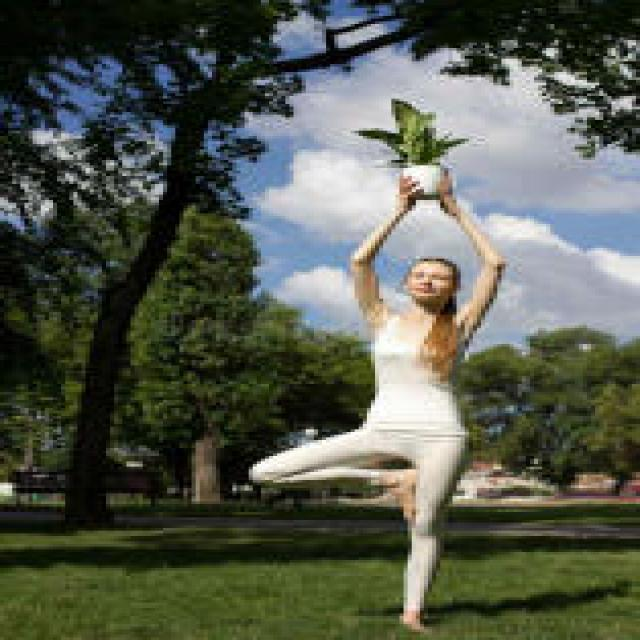yoga-pose tree: (251, 185, 516, 627)
